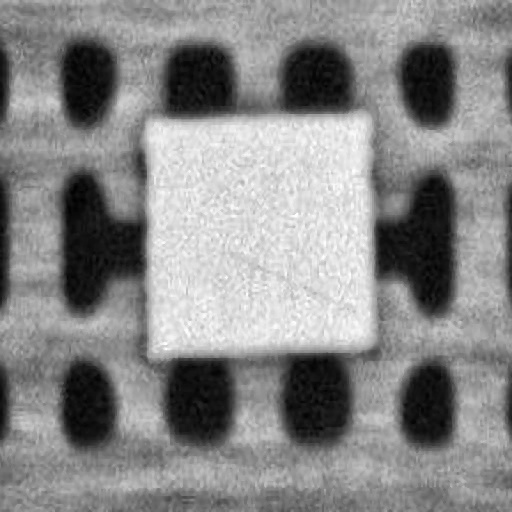DIE_CRACK: (336, 165, 512, 205)
